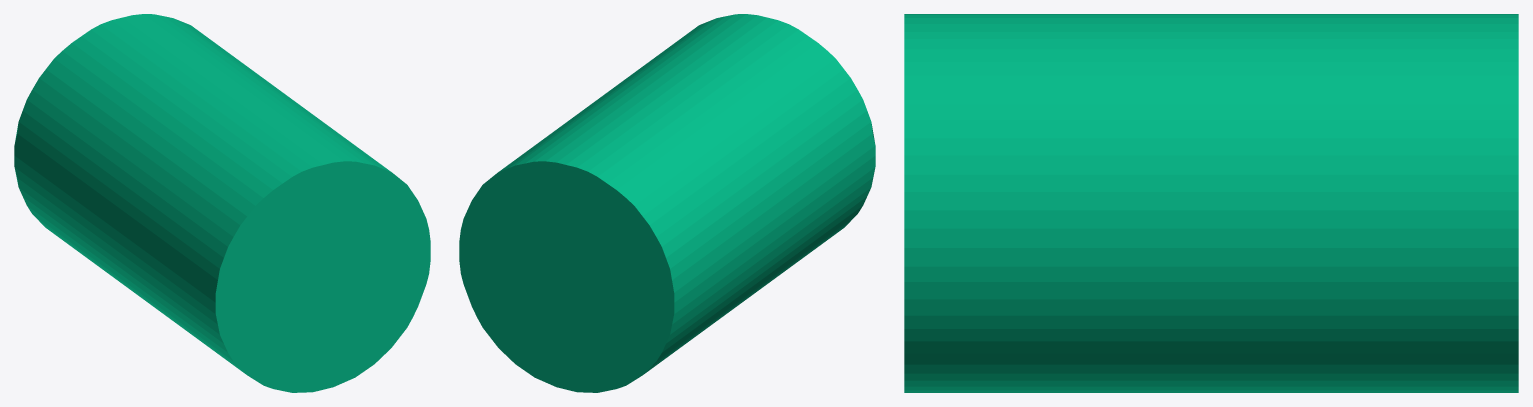
3 views of the same model, side by side, from view 1: azimuth 30°, elevation 25°; view 2: azimuth 150°, elevation 25°; view 3: azimuth 270°, elevation 25° (orthographic). The views are drawn at different scales.
Size of the model in its own units: 0.2186 by 0.2186 by 0.355.
